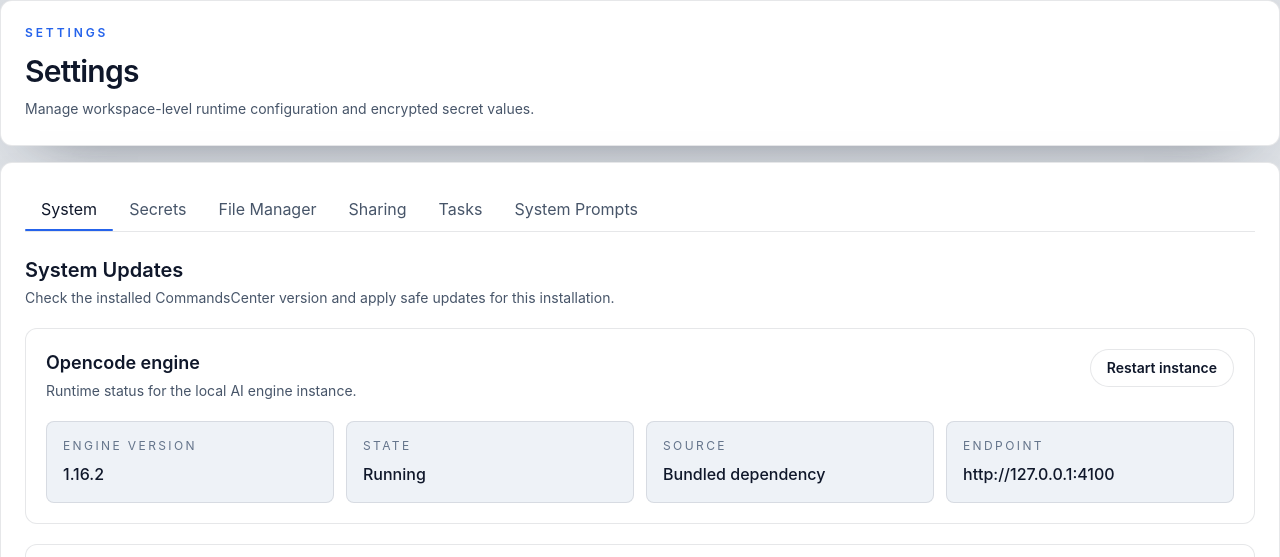
Test: SettingsPage › shows a fallback error when creating a secret fails
Click the tab "Secrets" at (158,209), box [113,187,202,231]
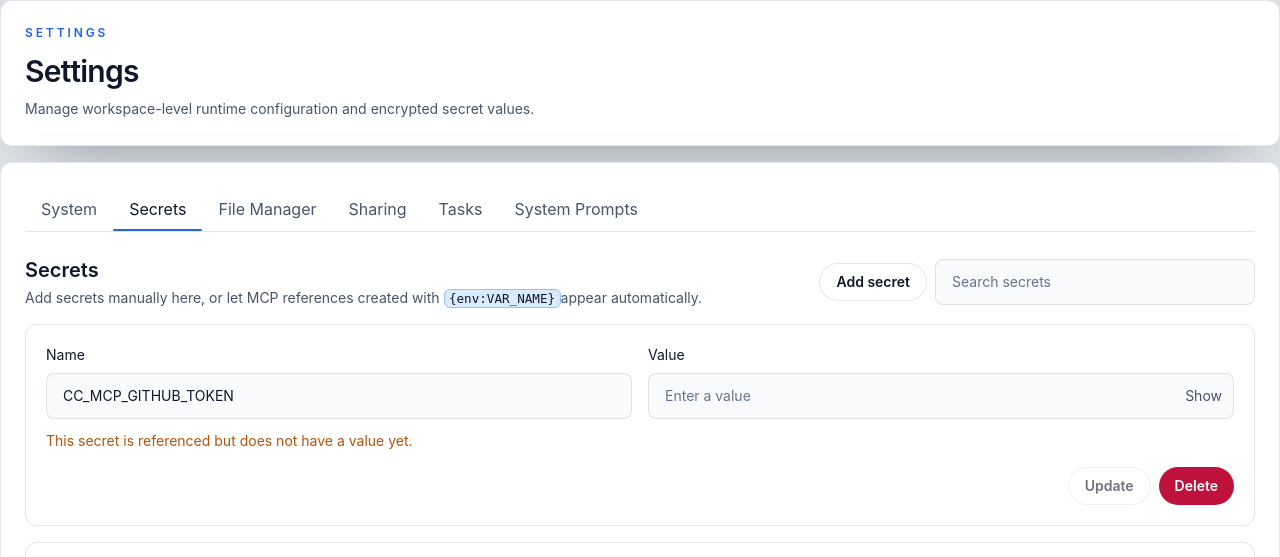
Click the button "Add secret" at (873,282), box [819,263,927,301]
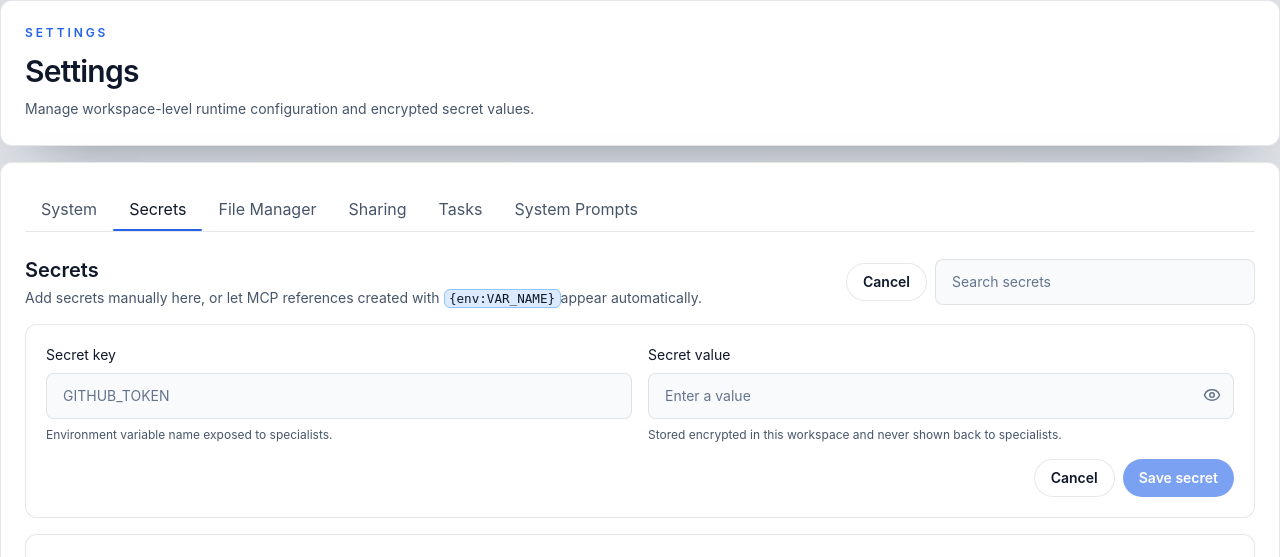
Type "CC_MANUAL_TOKEN" into the field labelled "Secret key" at (339,396), box [46,373,632,419]
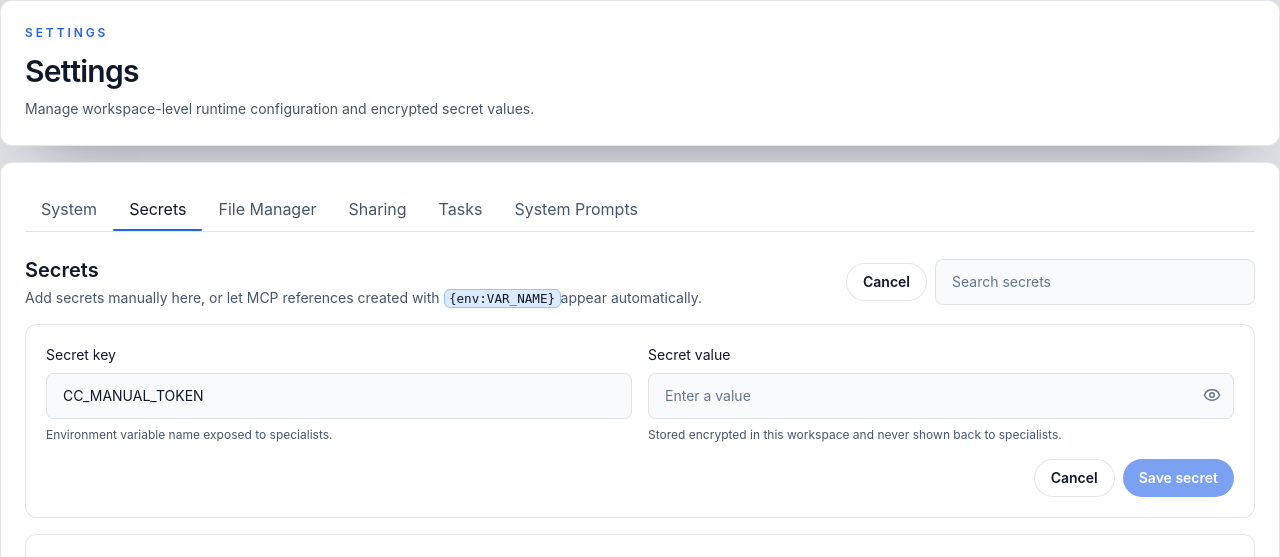
Type "manual-secret" into the password field labelled "Secret value" at (941,396), box [648,373,1234,419]
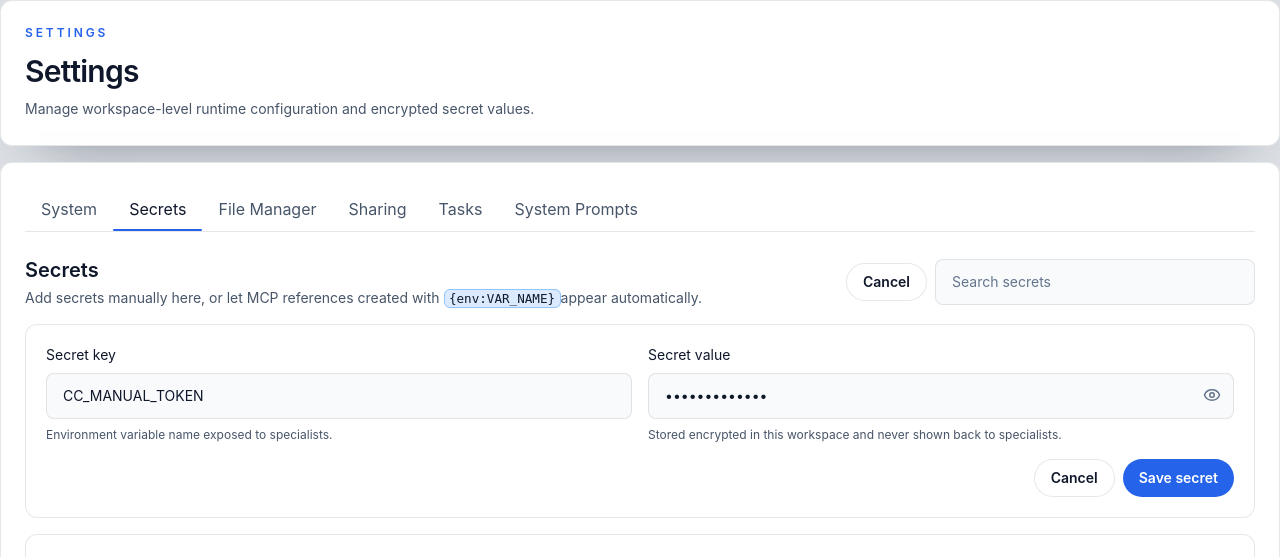
Click the button "Save secret" at (1178,478), box [1123,459,1234,497]
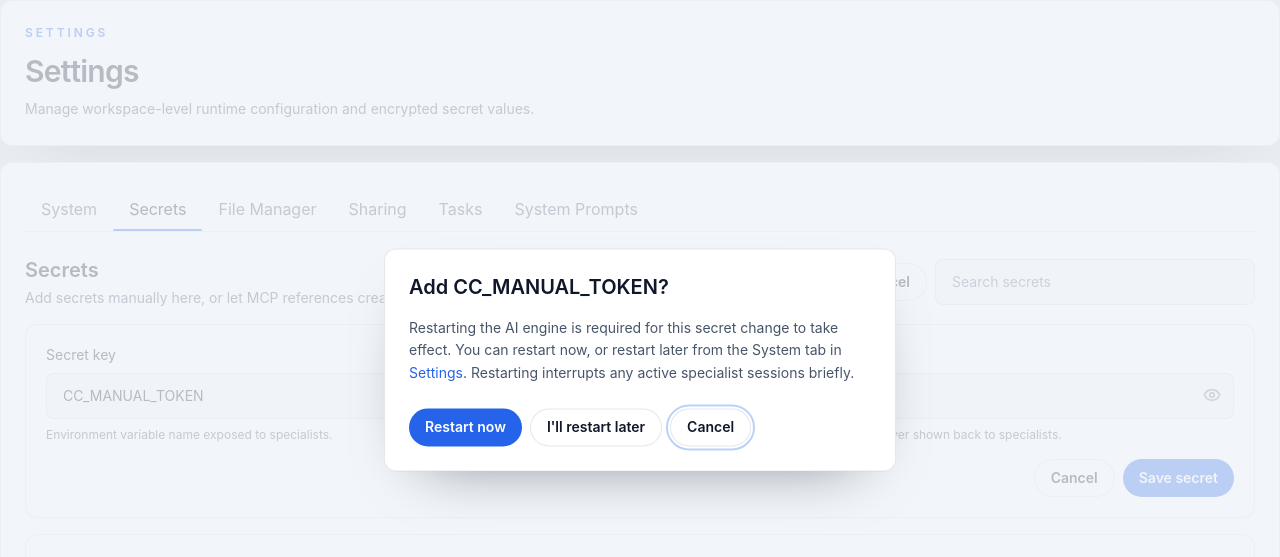
Click the button "Restart now" at (465,428), box [409,409,522,447]
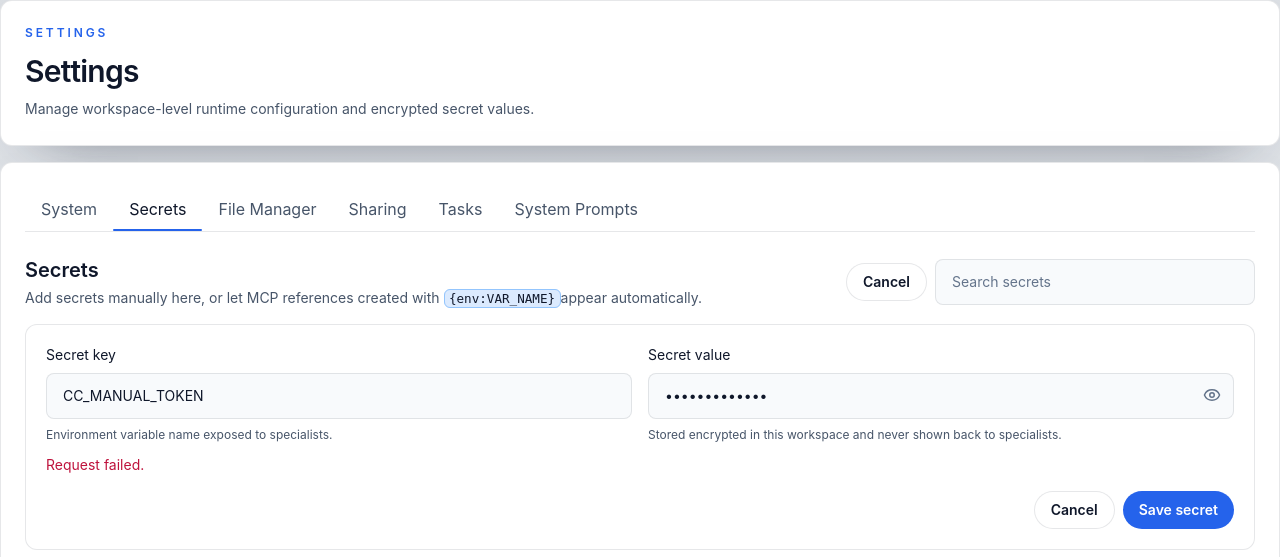
Expected: the text "Request failed." is shown, [46,456,144,473]
